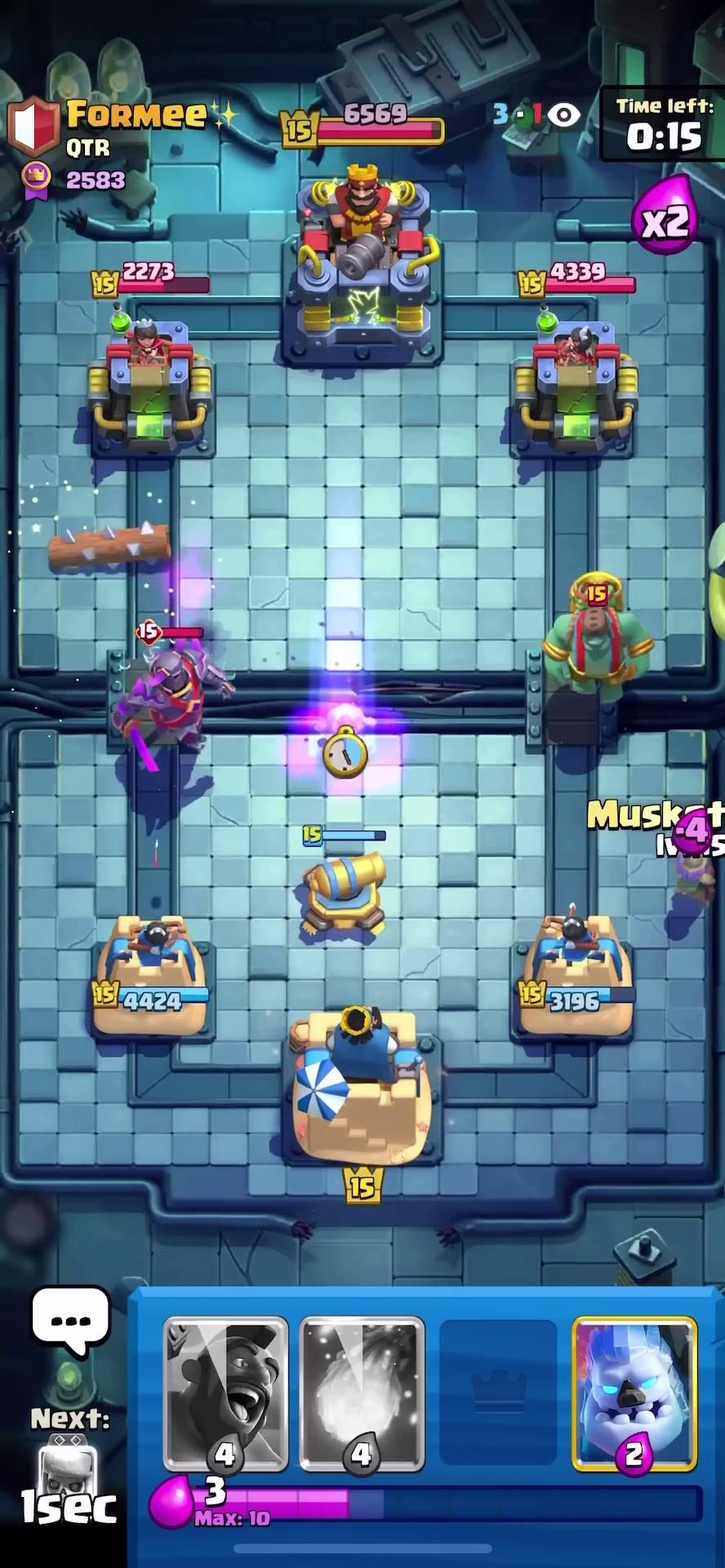cannon: (284, 823, 392, 945)
evo_ice_spirit: (325, 688, 369, 747)
